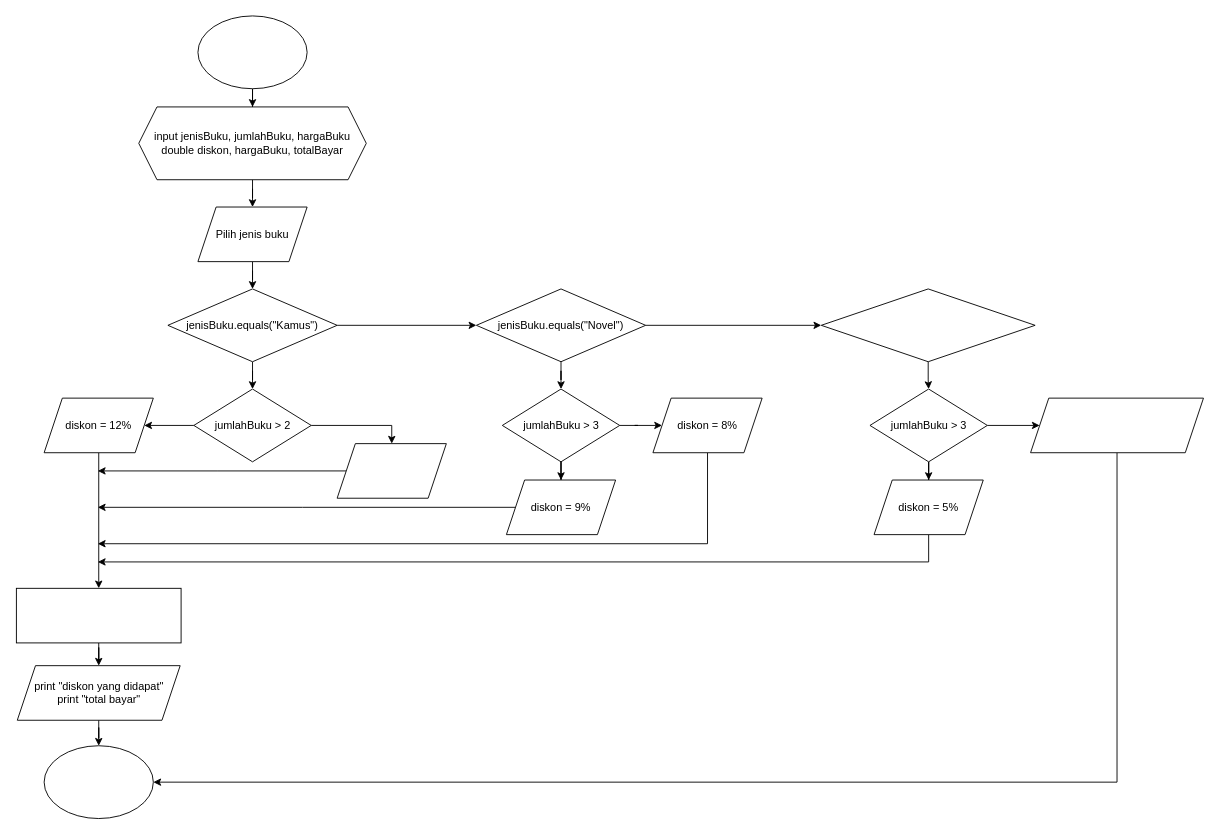
Some shapes in this 1219 by 834 pixel diagram are drawn without their labels. The centre of each missing label's shape, as x and y in pixels:
diskon = 10%: (391,470)
END: (98,782)
jenisBuku.equals("Jenis Lainnya"): (927,325)
print "Tidak mendapat diskon": (1116,425)
Start: (252,52)
totalBayar = (HargaBuku -((diskon/100)*HargaBuku);: (98,615)
